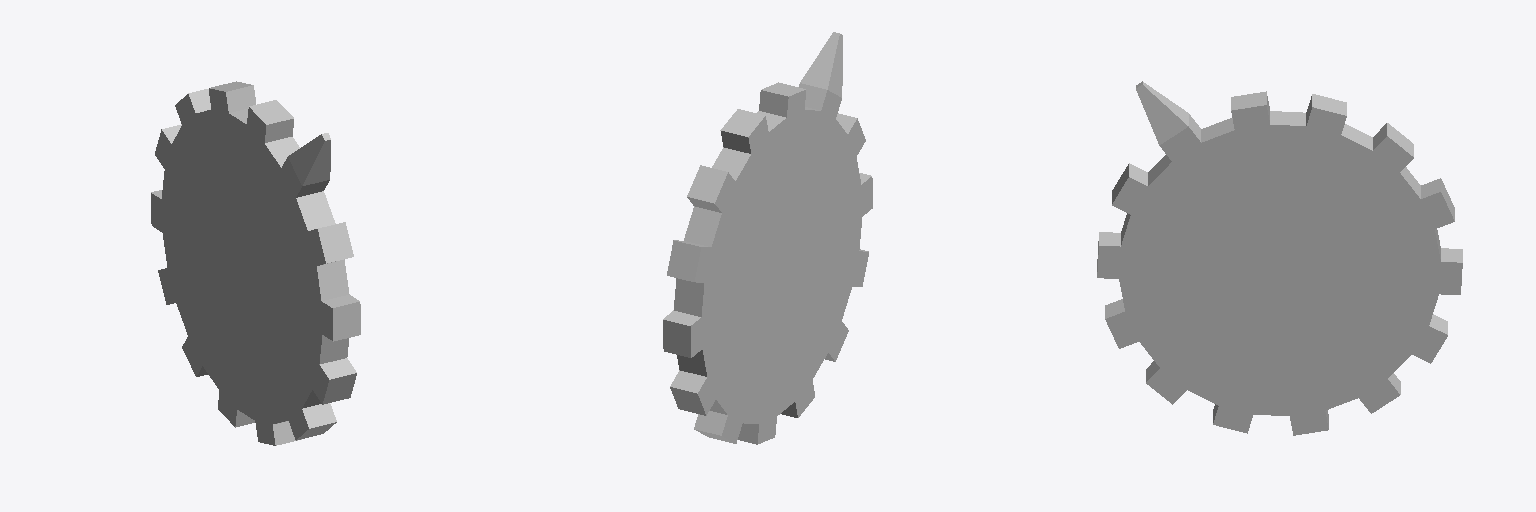
File: gear_000003.obj
3 views of the same model, side by side, from view 1: azimuth 30°, elevation 25°; view 2: azimuth 150°, elevation 25°; view 3: azimuth 270°, elevation 25° (orthographic).
Parts seen in each view (by area): view 1: gear_Cylinder.001; view 2: gear_Cylinder.001; view 3: gear_Cylinder.001.
Boxes of the visible parts, <box> form: gear_Cylinder.001: <box>151,81,360,445</box>; gear_Cylinder.001: <box>663,32,872,444</box>; gear_Cylinder.001: <box>1097,81,1462,435</box>.
Size of the model in its own units: 0.1 by 1.18 by 1.13.